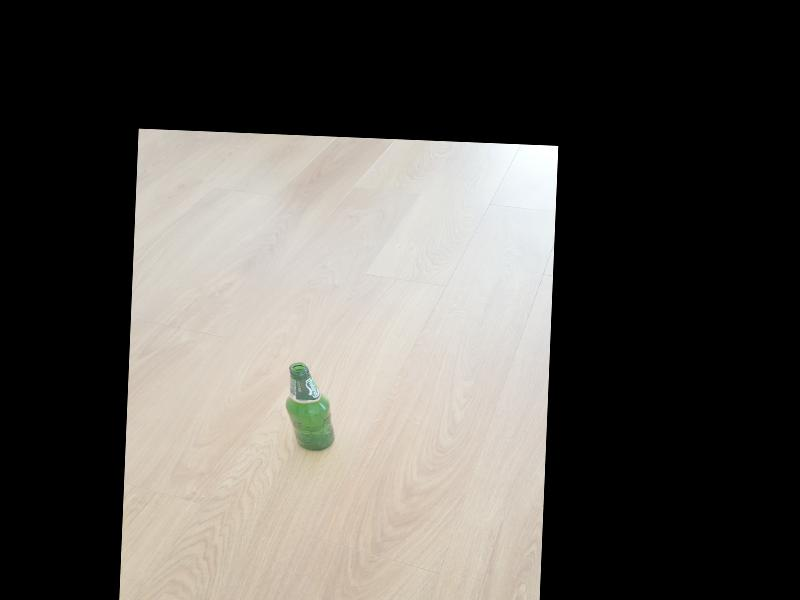Beer: (283, 360, 338, 452)
